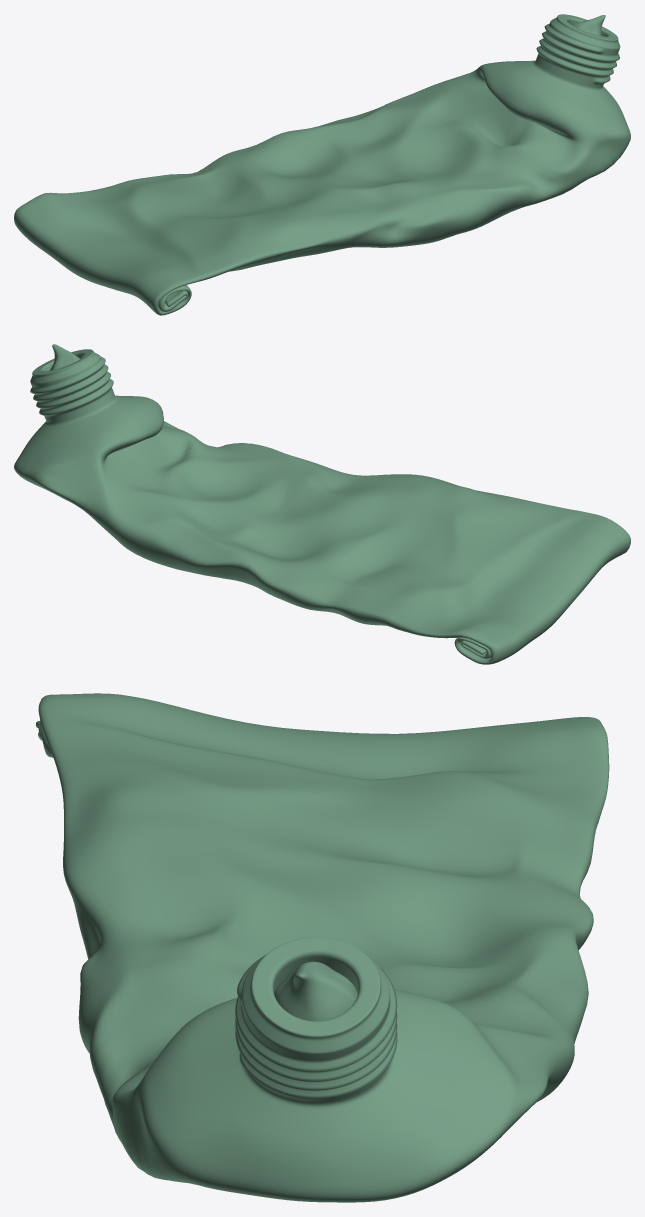
The model's file is paint_container_tube_b01.glb.
The picture shows the model from 3 angles, top to bottom: view 1: azimuth 30°, elevation 25°; view 2: azimuth 150°, elevation 25°; view 3: azimuth 270°, elevation 25°; orthographic projection. The views are drawn at different scales.
Size of the model in its own units: 0.075 by 0.0207 by 0.0348.
